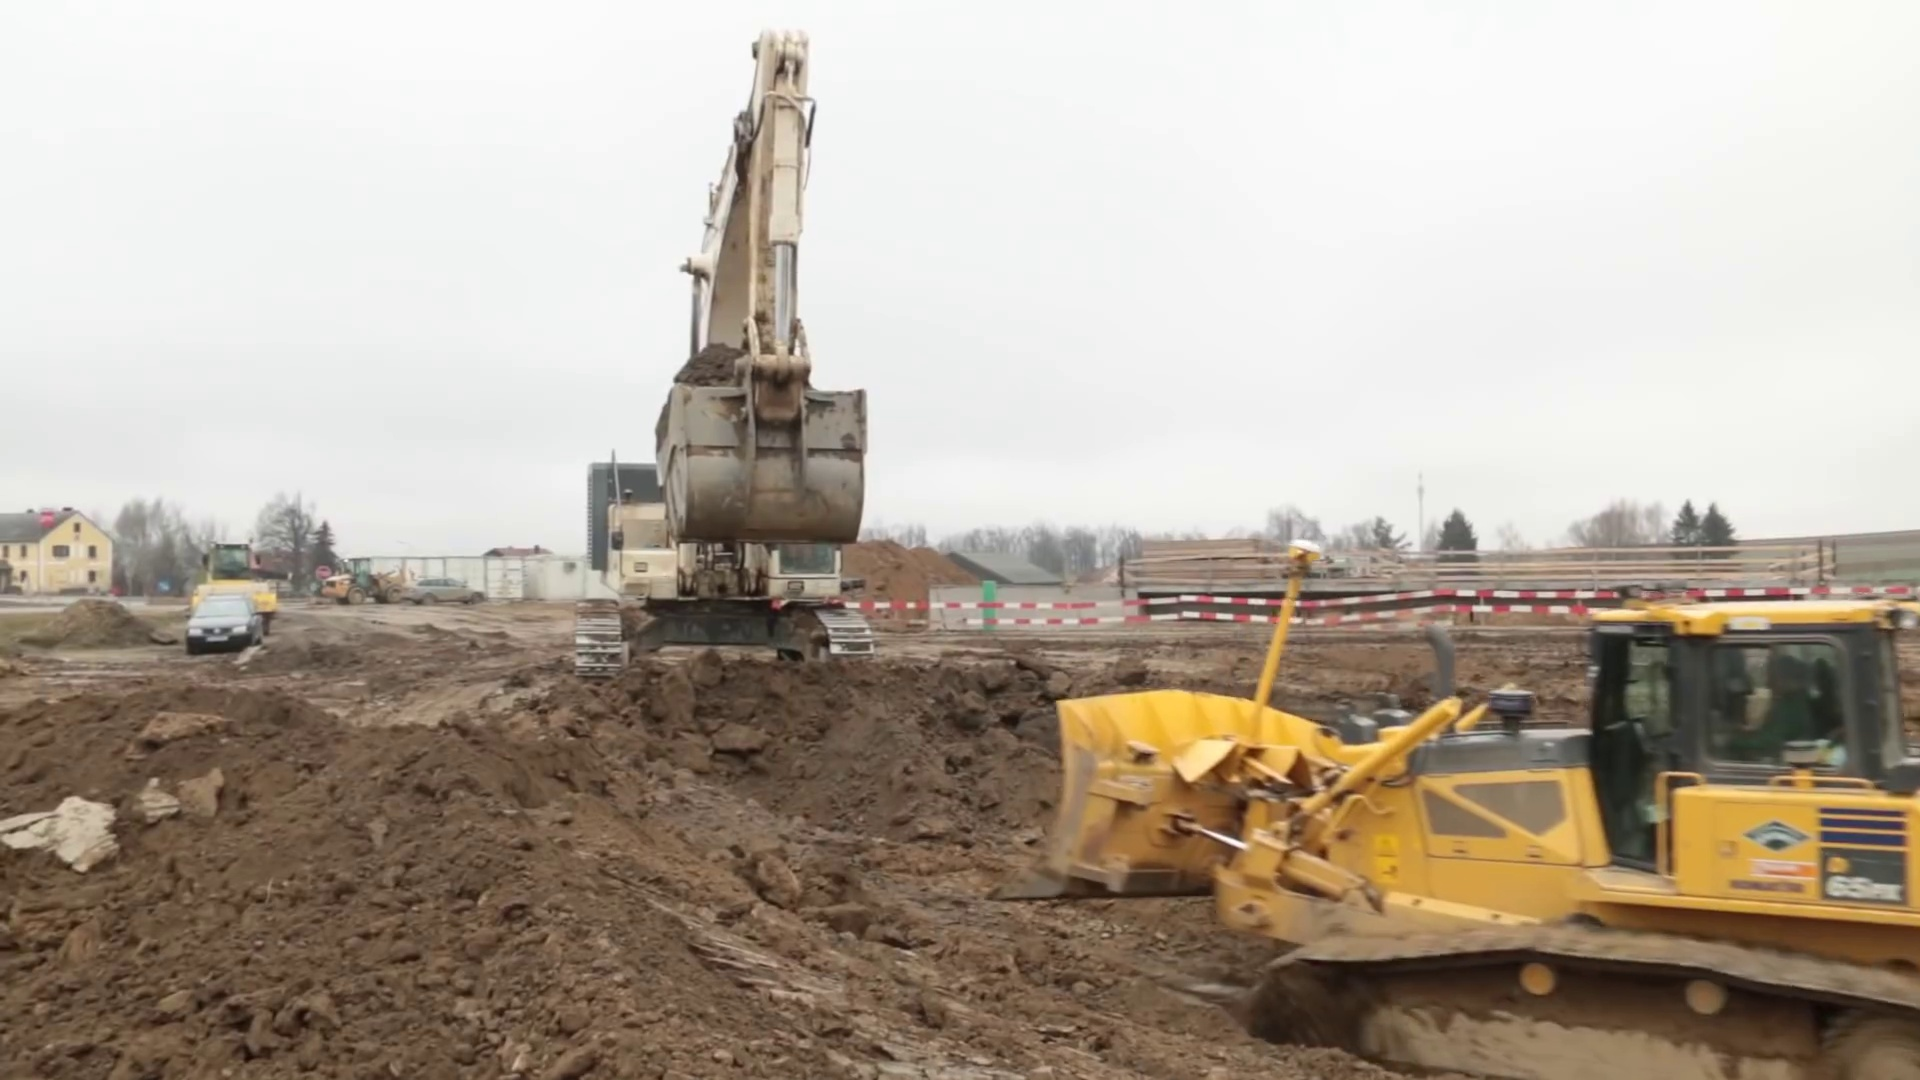bulldozer: (992, 541, 1920, 1073)
car: (185, 593, 260, 650), (404, 578, 487, 596)
excavator: (579, 28, 876, 692)
